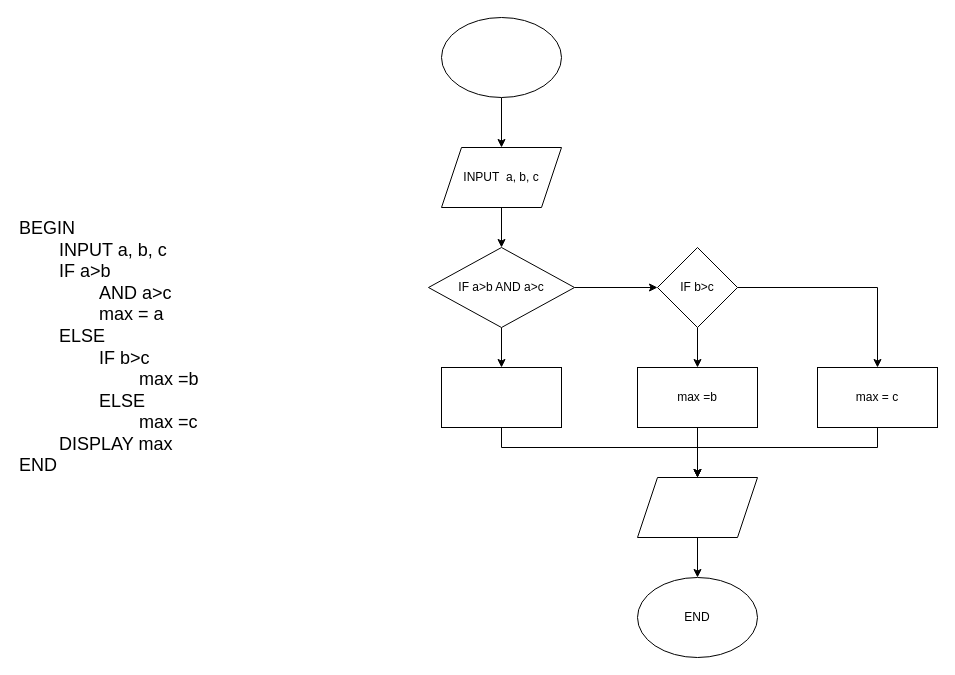
This 955x675 diagram has some shape labels left out. Each missing label, with the box of its shape:
BEGIN: (440, 16, 562, 98)
DISPLAY max: (636, 476, 758, 538)
max = a: (440, 366, 562, 428)
